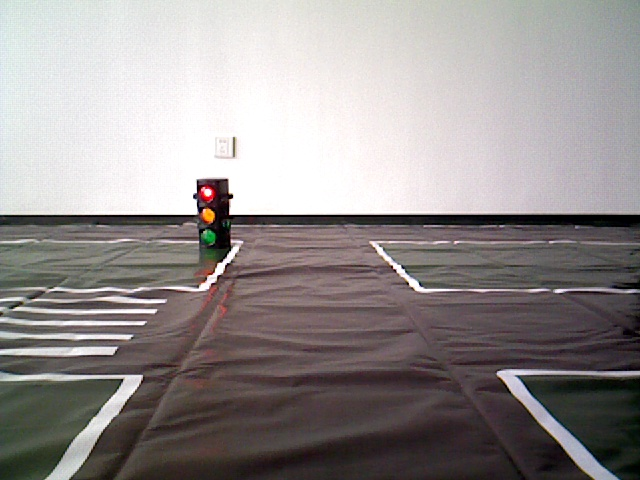red: (197, 183, 227, 253)
